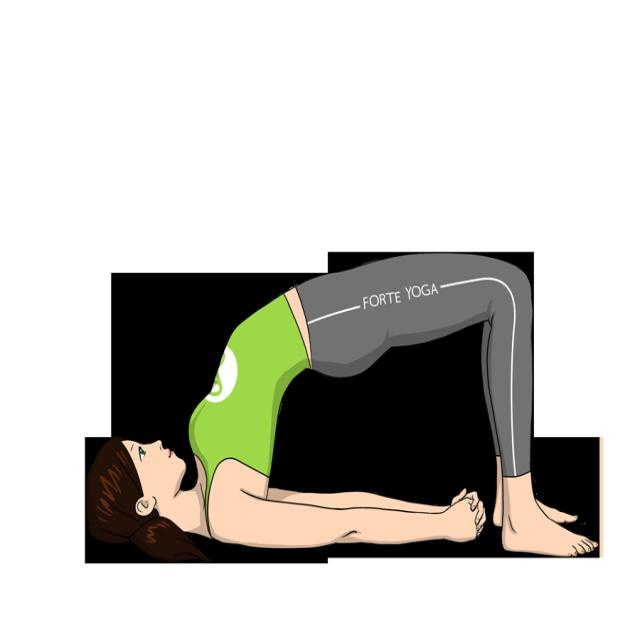Bridge_Pose: (86, 253, 603, 559)
